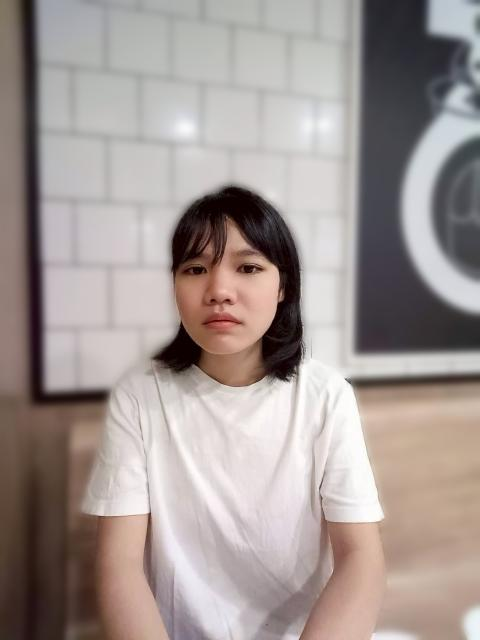fokus: (174, 204, 287, 358)
